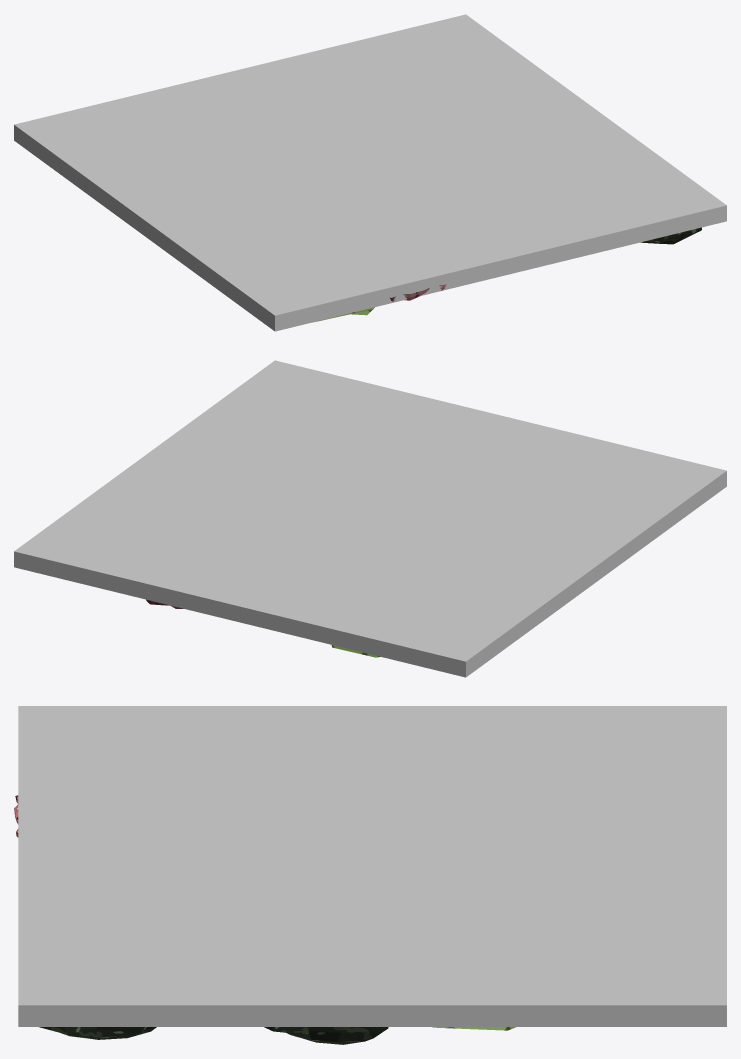
File: PastCell.fbx
The picture shows the model from 3 angles, top to bottom: view 1: azimuth 30°, elevation 25°; view 2: azimuth 150°, elevation 25°; view 3: azimuth 270°, elevation 25°; orthographic projection. The views are drawn at different scales.
Visible parts, largest first — view 1: Techo; view 2: Techo; view 3: Techo.
Boxes of the visible parts, x1,y1,x2,y2 form: Techo: (14,14,726,331); Techo: (14,360,726,677); Techo: (14,706,726,1044).
Size of the model in its own units: 4978 by 448 by 5011.
